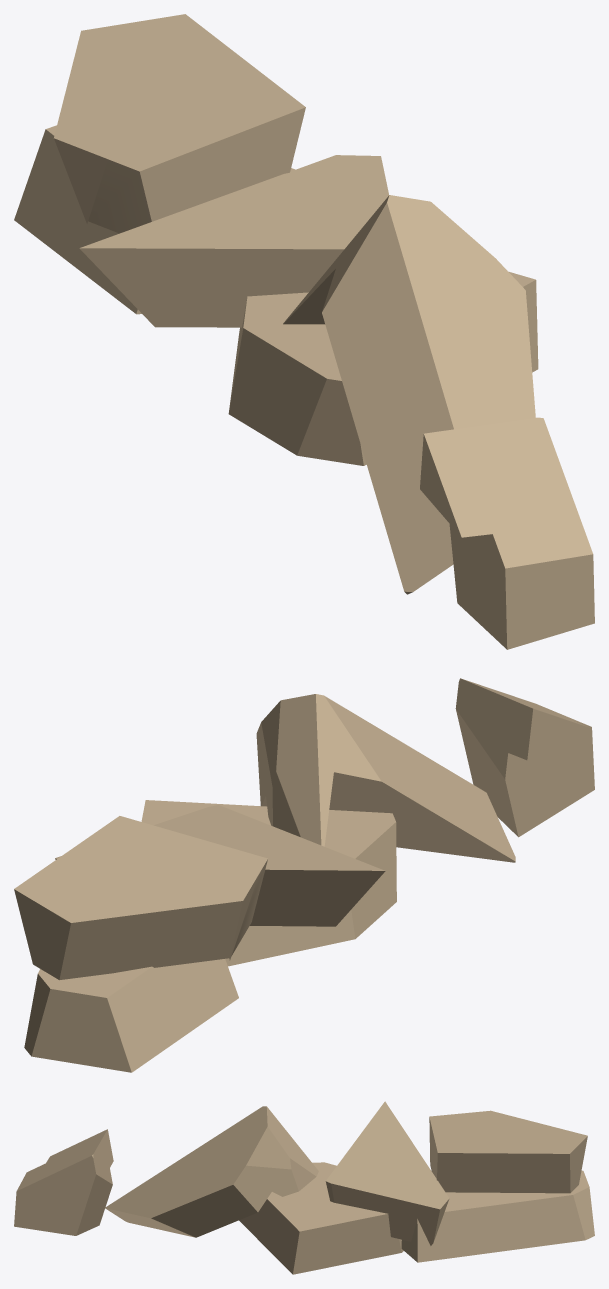
The model's file is SM_debris_clutter_01.fbx.
The picture shows the model from 3 angles, top to bottom: view 1: azimuth 30°, elevation 25°; view 2: azimuth 150°, elevation 25°; view 3: azimuth 270°, elevation 25°; orthographic projection. The views are drawn at different scales.
Parts seen in each view (by area): view 1: debris_clutter_01; view 2: debris_clutter_01; view 3: debris_clutter_01.
Boxes of the visible parts, bbox=[...] form: debris_clutter_01: bbox=[14, 14, 594, 649]; debris_clutter_01: bbox=[14, 678, 594, 1072]; debris_clutter_01: bbox=[14, 1101, 594, 1274].
Bounding box in the file's own units: 211 × 148 × 536.
